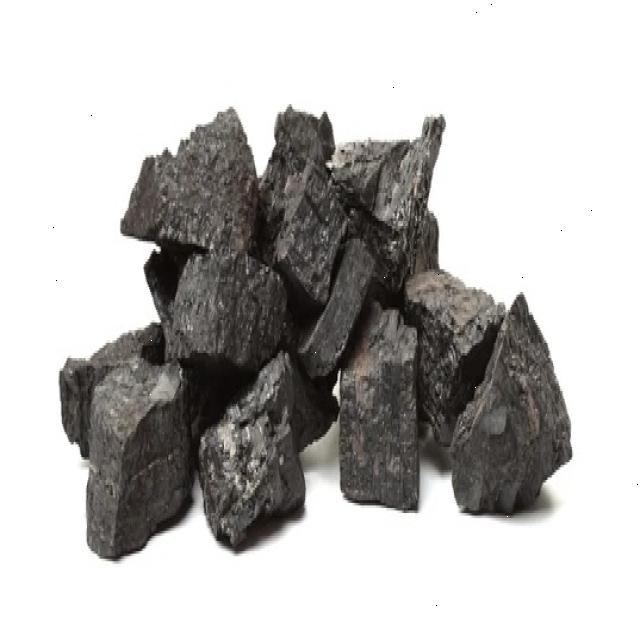Sedimentary: (56, 99, 582, 559)
